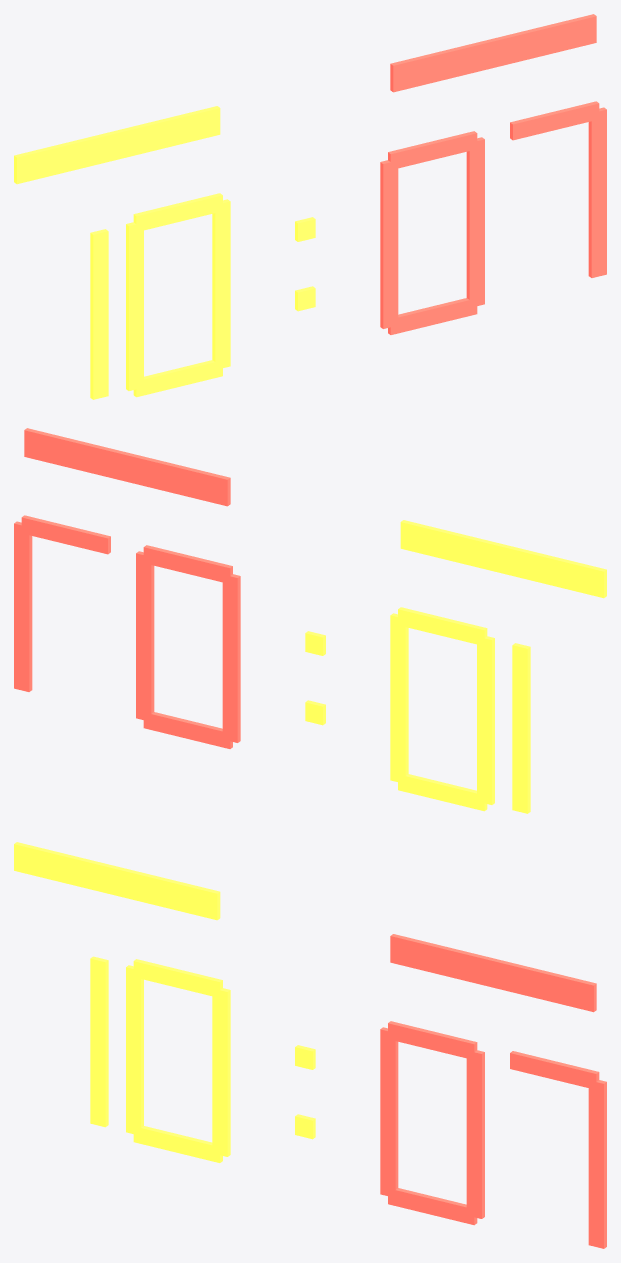
The model's file is scoreboard_display.glb.
3 renders of one model, top to bottom at view 1: azimuth 30°, elevation 25°; view 2: azimuth 150°, elevation 25°; view 3: azimuth 330°, elevation 25°, orthographic.
Parts seen in each view (by area): view 1: scoreboard_display; view 2: scoreboard_display; view 3: scoreboard_display.
Part boxes in pixels (bbox=[...]): scoreboard_display: bbox=[14, 14, 606, 399]; scoreboard_display: bbox=[14, 428, 606, 813]; scoreboard_display: bbox=[14, 842, 606, 1248].
Bounding box in the file's own units: 2.32 × 1.01 × 0.02.
